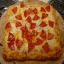pepperoni: (15, 12, 32, 39), (25, 29, 45, 51), (5, 32, 24, 51), (22, 11, 38, 29), (40, 7, 48, 29)
pizza: (2, 4, 60, 59)
